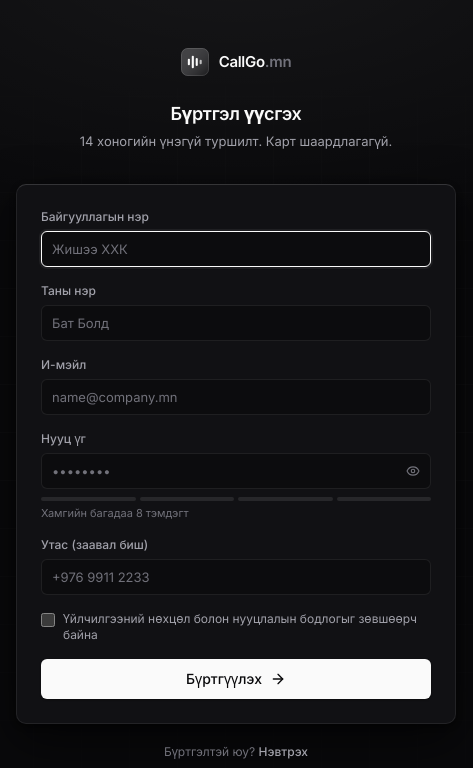
Test case: SignupPage › shows a friendly error when the email is taken
Type "Acme ХХК" into the field labelled "Байгууллагын нэр" at (236, 248), box [41,230,431,266]
Type "Бат" into the field labelled "Таны нэр" at (236, 322), box [41,304,431,340]
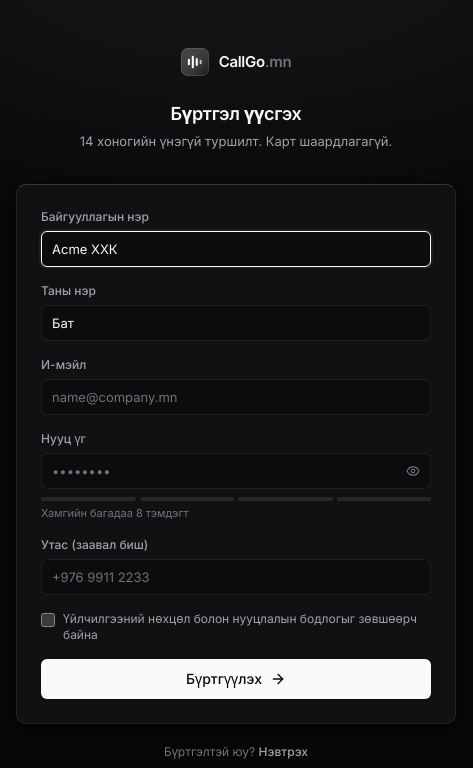
Type "bat@acme.mn" into the field labelled "И-мэйл" at (236, 396), box [41,378,431,414]
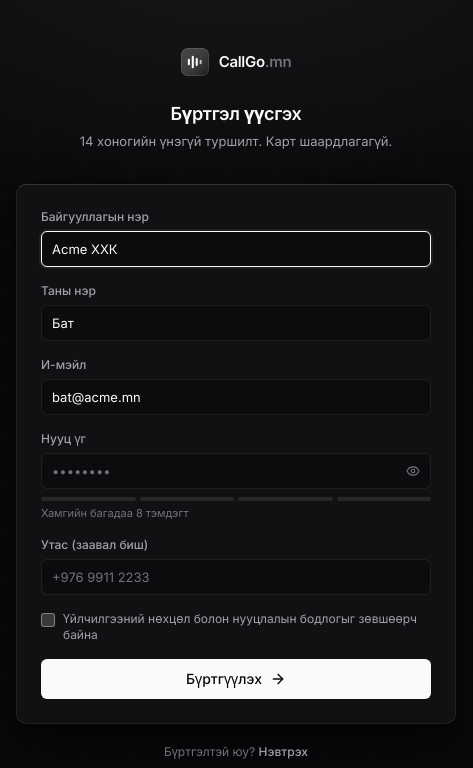
Type "Secret123!" into the password field labelled "Нууц үг" at (236, 470), box [41,452,431,488]
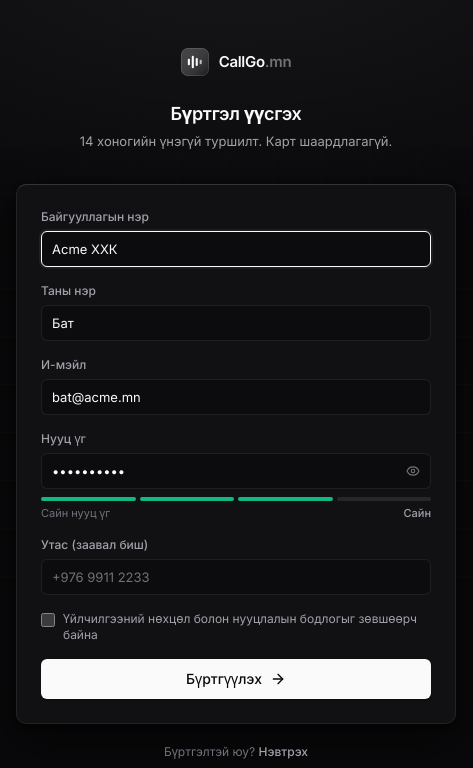
Type "+97699112233" into the field labelled "Утас (заавал биш)" at (236, 577), box [41,559,431,595]
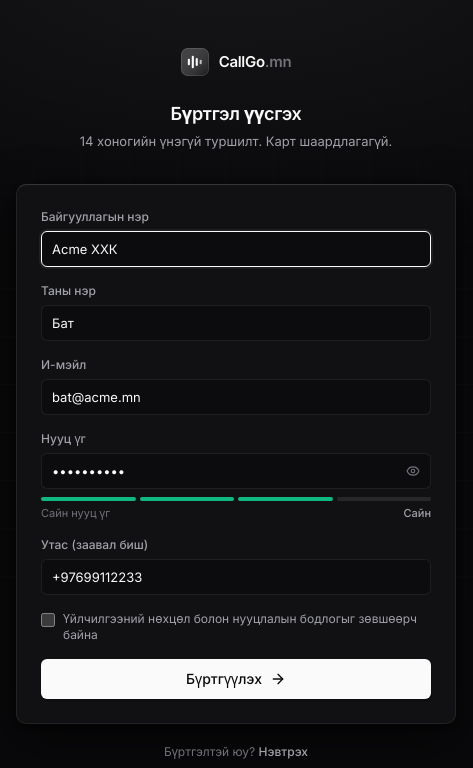
Click the checkbox labelled "Үйлчилгээний нөхцөл болон нууцлалын бодлогыг зөвшөөрч байна" at (48, 620), box [41,613,55,627]
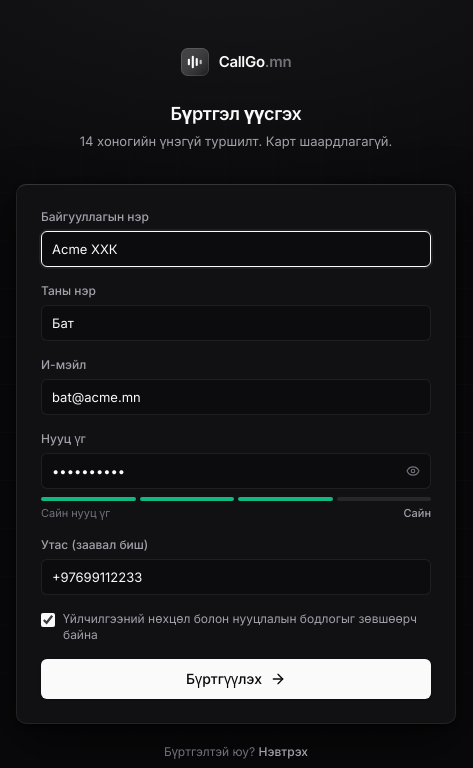
Click the button "Бүртгүүлэх" at (236, 679), box [41,659,431,699]
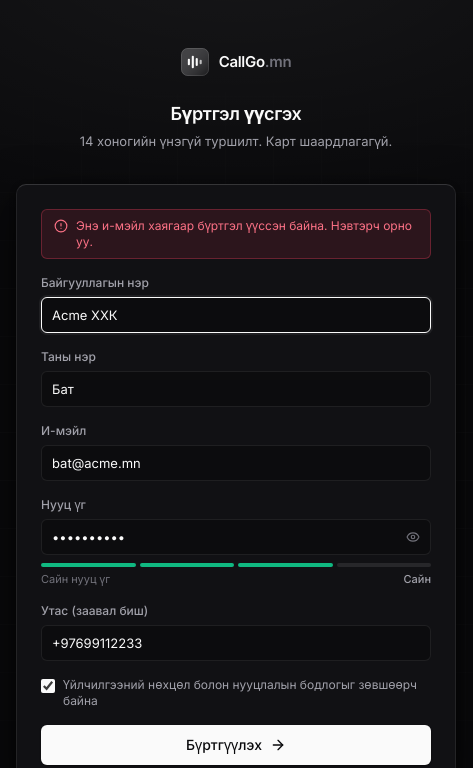
Result: the message shows "бүртгэл үүссэн байна" at [76,218,412,248]
